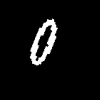chain: (30, 19, 56, 64)
